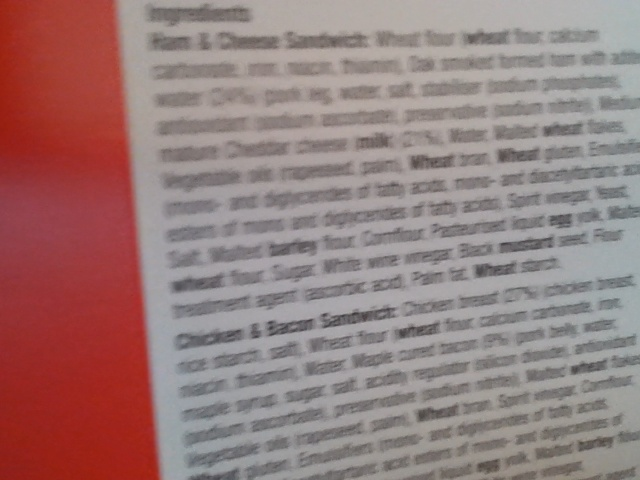chicken: (171, 327, 245, 347)
